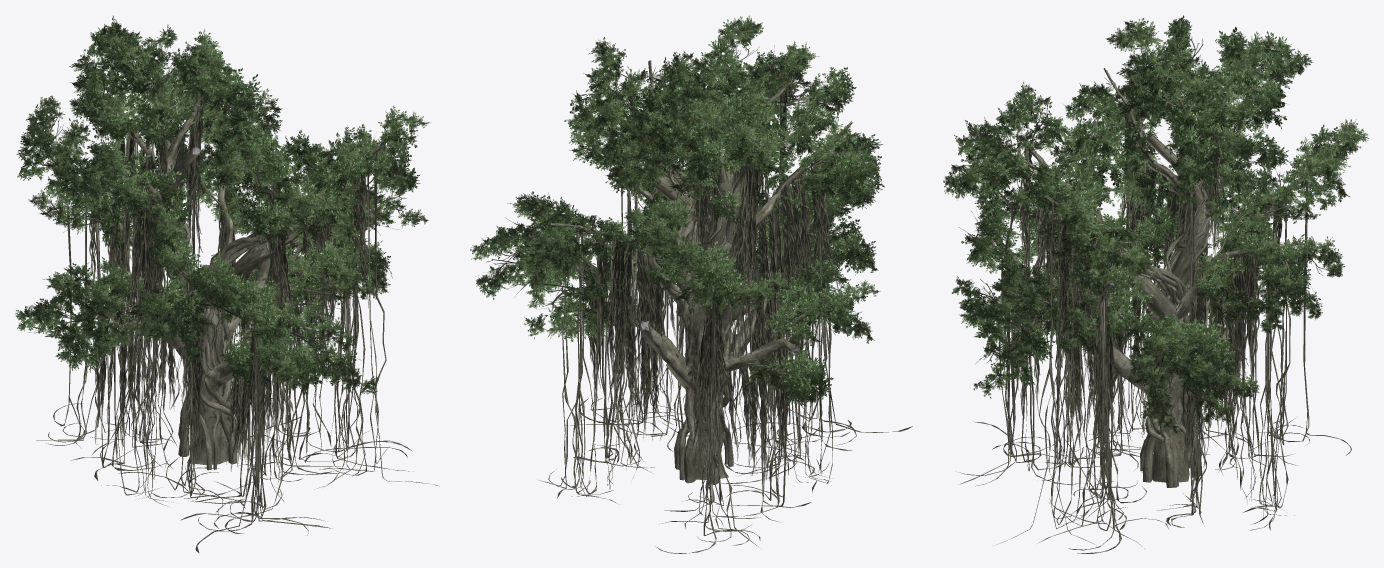
Rendered from banyan.glb.
3 views of the same model, side by side, from view 1: azimuth 30°, elevation 25°; view 2: azimuth 150°, elevation 25°; view 3: azimuth 270°, elevation 25° (orthographic). The views are drawn at different scales.
Parts seen in each view (by area): view 1: ChineseBanyan_Med_w; view 2: ChineseBanyan_Med_w; view 3: ChineseBanyan_Med_w.
Boxes of the visible parts, bbox=[...] form: ChineseBanyan_Med_w: bbox=[15, 15, 439, 553]; ChineseBanyan_Med_w: bbox=[470, 15, 912, 553]; ChineseBanyan_Med_w: bbox=[943, 15, 1368, 553].
Size of the model in its own units: 14.07 by 16 by 13.83.
7 materials, 7 textured.
